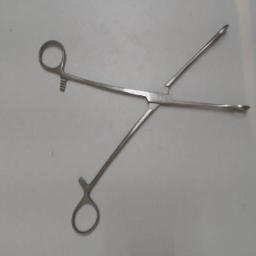Sponge Forceps: (36, 16, 254, 240)
